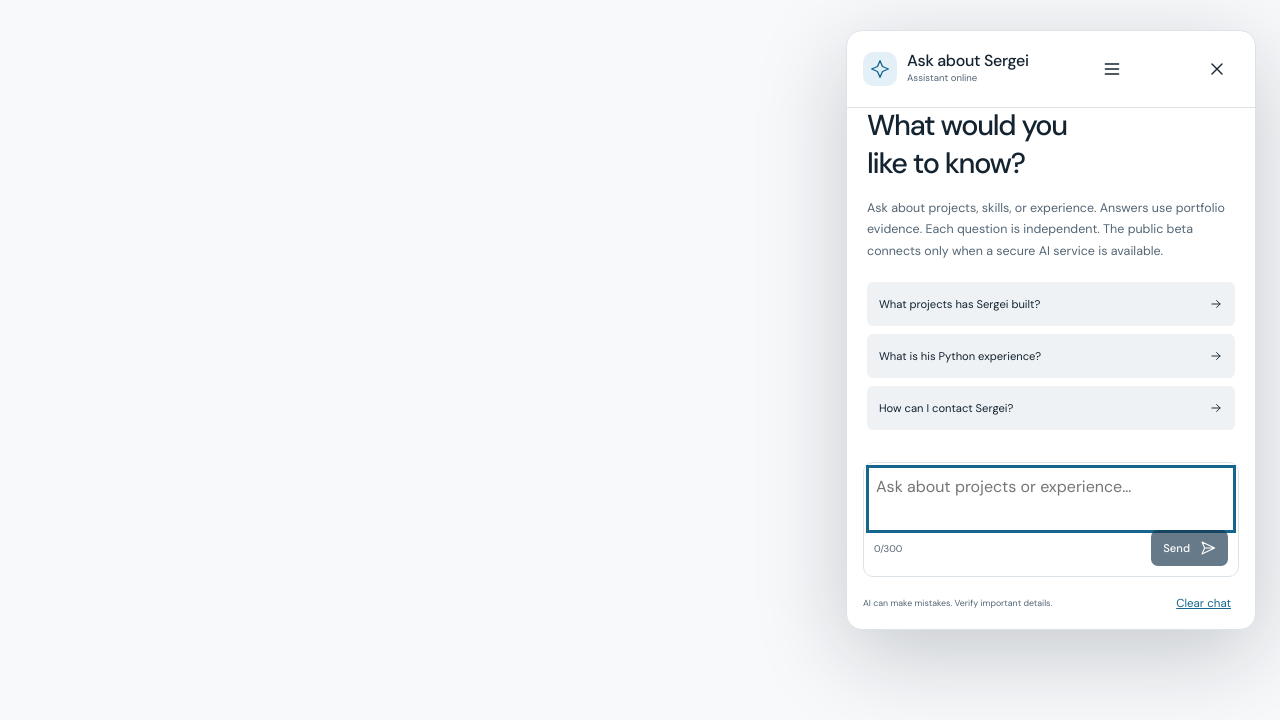
Test: original React chat behavior › sends a question without HTML injection and clears the local transcript
(page scrolled)
Type "Which projects?" into the text box named "Your question". click: (1051, 499)
box: [874, 473, 1228, 525]
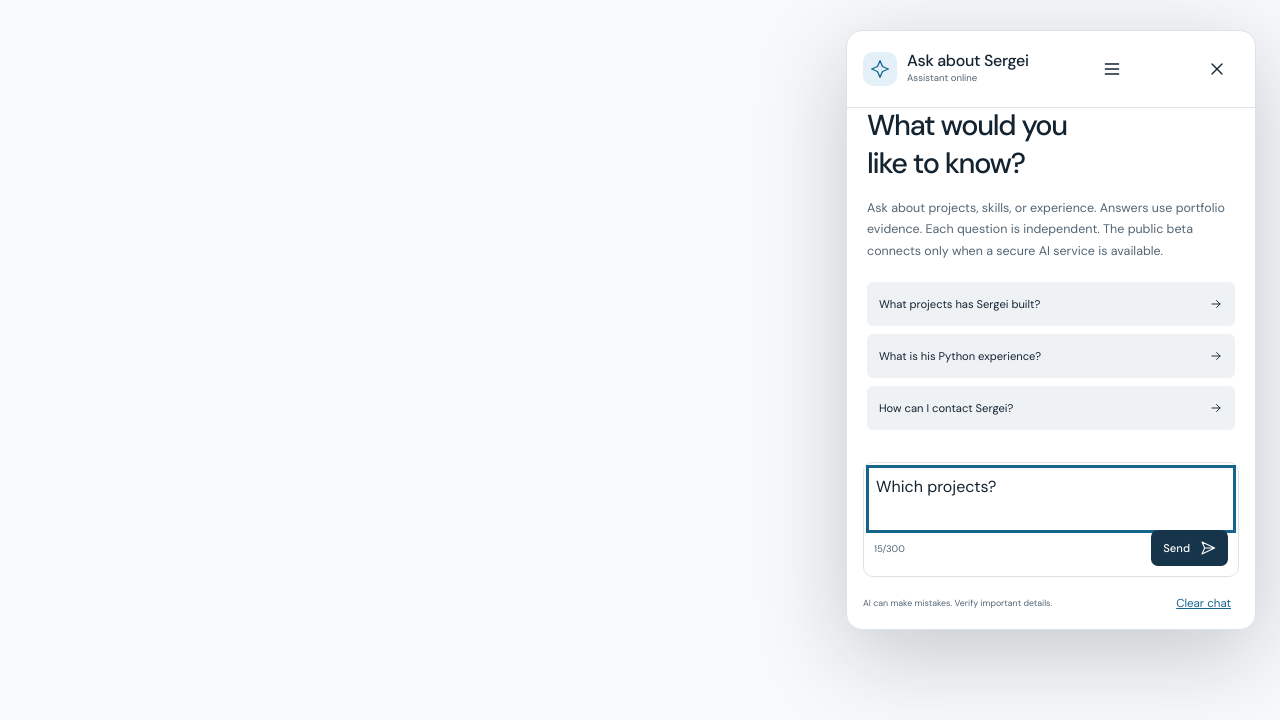
Click the button "Send". click: (1190, 548)
box: [1151, 530, 1228, 566]
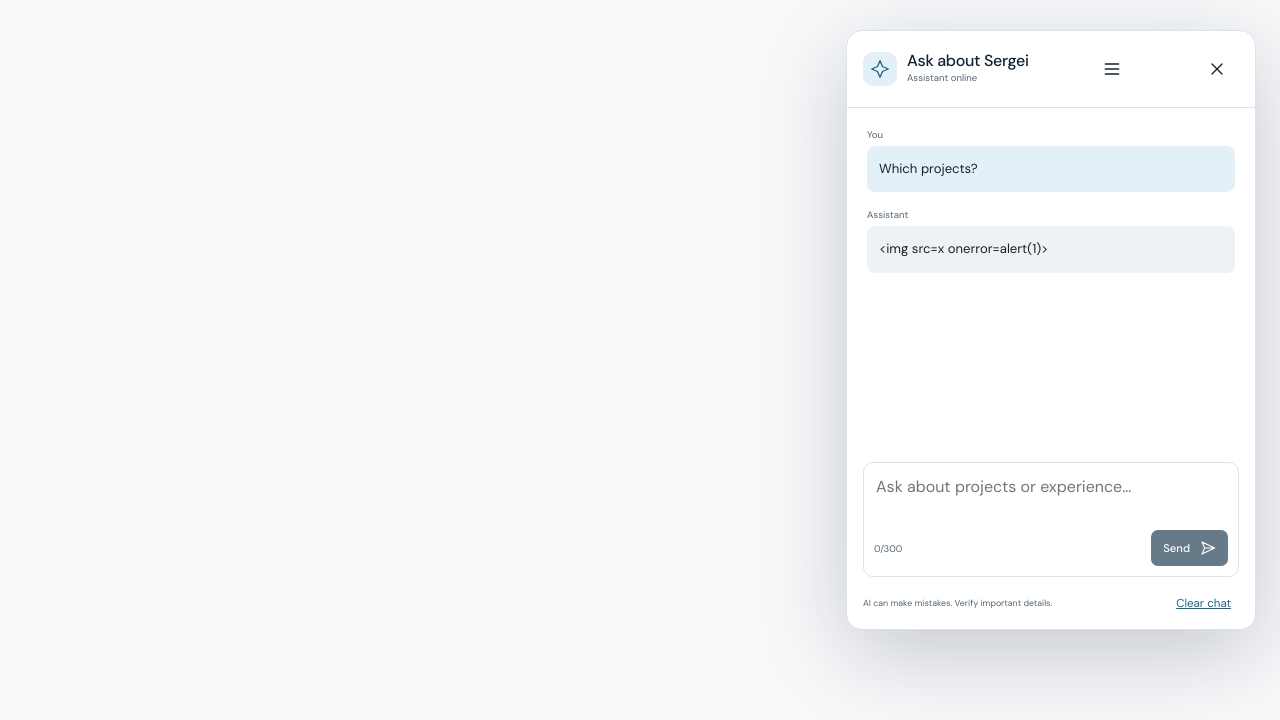
expect the text "<img src=x onerror=alert(1)>" is shown: met, box [867, 226, 1235, 273]
Click the button "Clear chat". click: (1204, 603)
box: [1168, 585, 1239, 621]
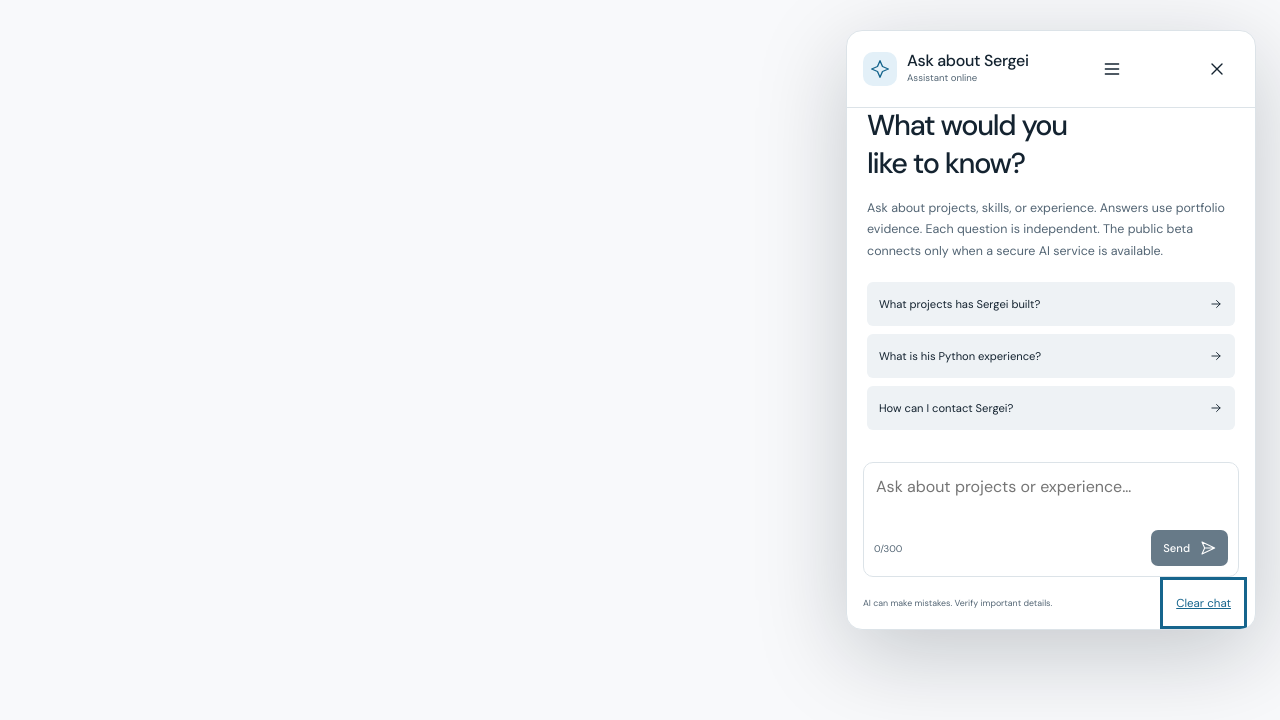
expect the text "Which projects?" is gone: met
